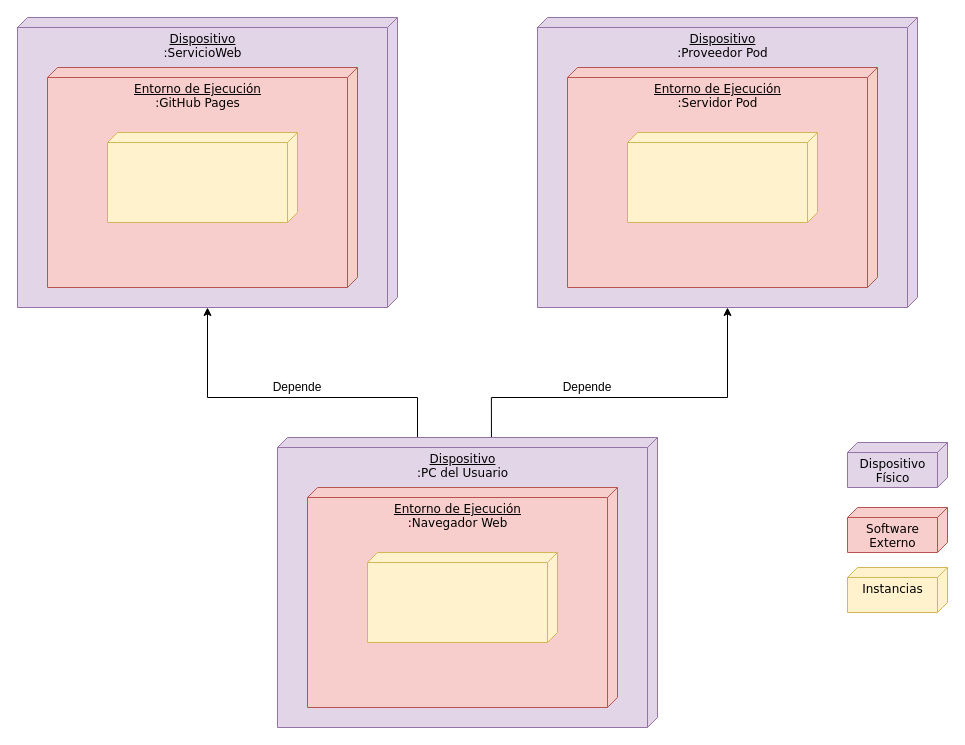
Some shapes in this 965 by 745 pixel diagram are drawn without their labels. The centre of each missing label's shape, as x and y in pixels:
":Instancia Pod" goes at (x=722, y=177).
":Página Web" goes at (x=462, y=597).
":Radarin" goes at (x=202, y=177).
